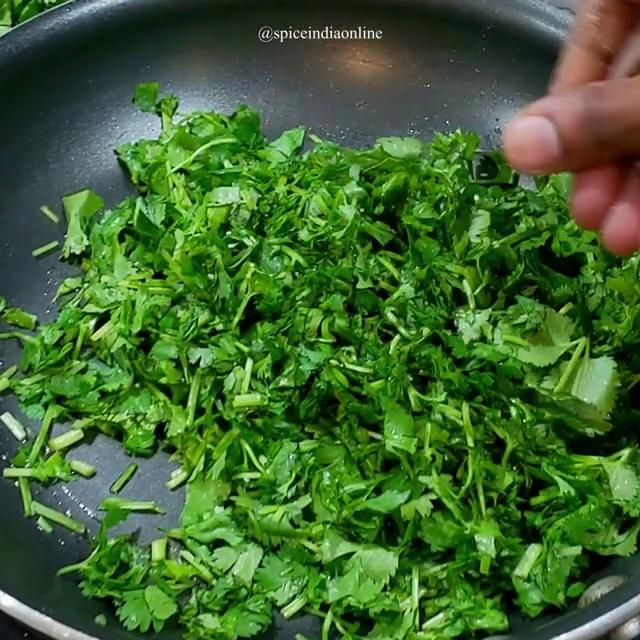cilantro: (114, 136, 525, 640)
